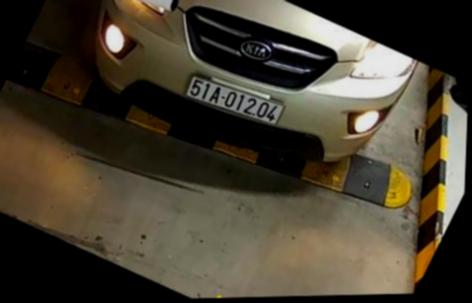License_Plate: (179, 69, 291, 130)
